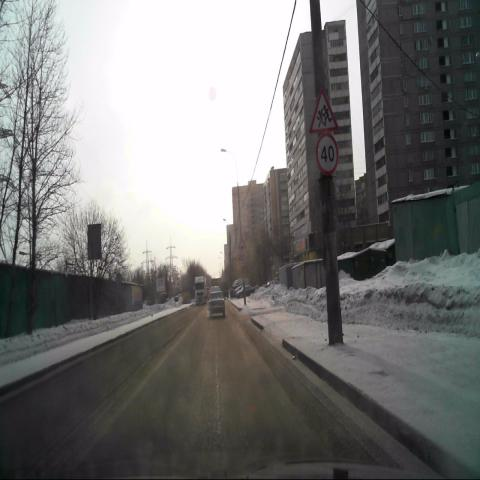1_23: (310, 89, 338, 134)
3_24: (316, 136, 338, 171)
